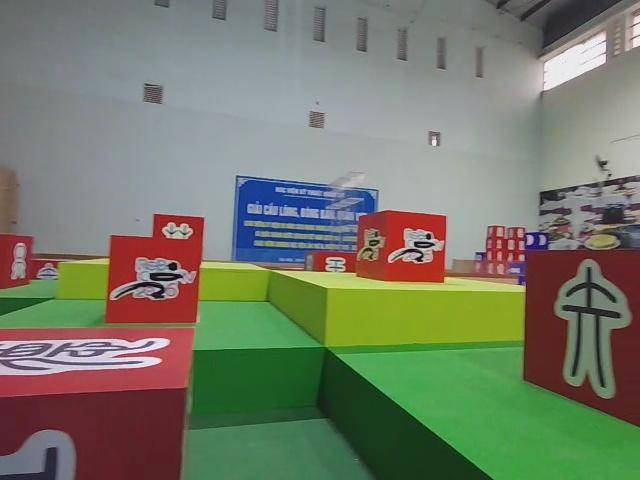R1: (101, 235, 199, 328), (355, 207, 447, 289)
R2 Fake: (0, 326, 199, 480), (522, 247, 640, 427)
R2 Real: (0, 227, 34, 287)
